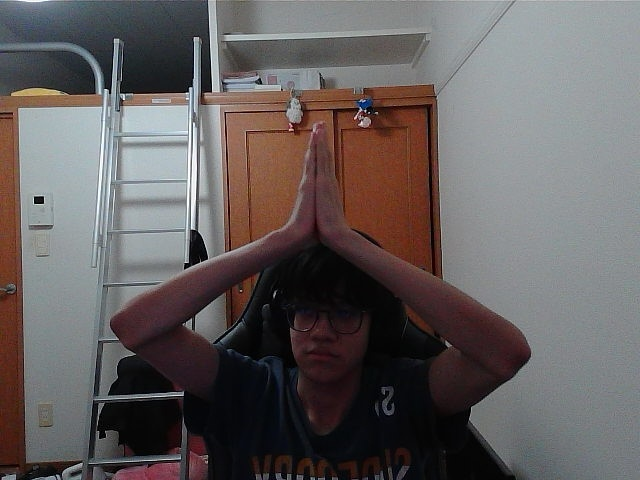pray: (314, 135, 335, 225)
